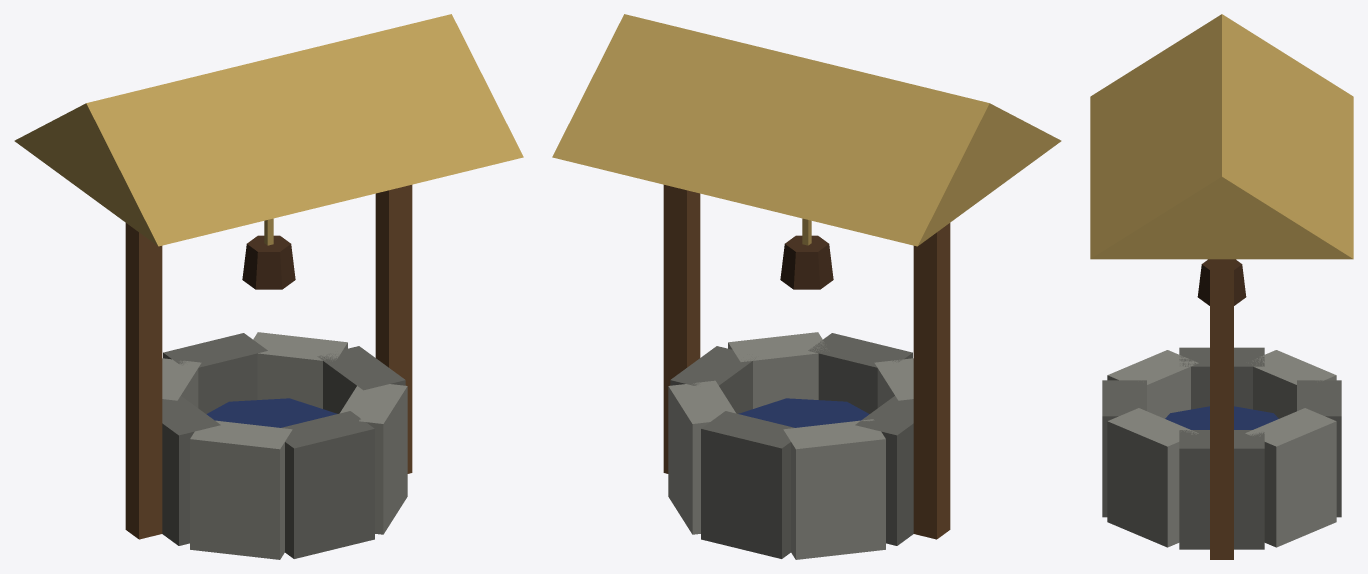
The model's file is prop_umul.glb.
3 renders of one model, left to right at view 1: azimuth 30°, elevation 25°; view 2: azimuth 150°, elevation 25°; view 3: azimuth 270°, elevation 25°, orthographic. The views are drawn at different scales.
Parts seen in each view (by area): view 1: prop_umul; view 2: prop_umul; view 3: prop_umul.
Boxes of the visible parts, x1=… form: prop_umul: x1=14, y1=14, x2=523, y2=559; prop_umul: x1=552, y1=14, x2=1061, y2=559; prop_umul: x1=1090, y1=14, x2=1353, y2=559.
Bounding box in the file's own units: 1.9 × 2.2 × 1.3.
